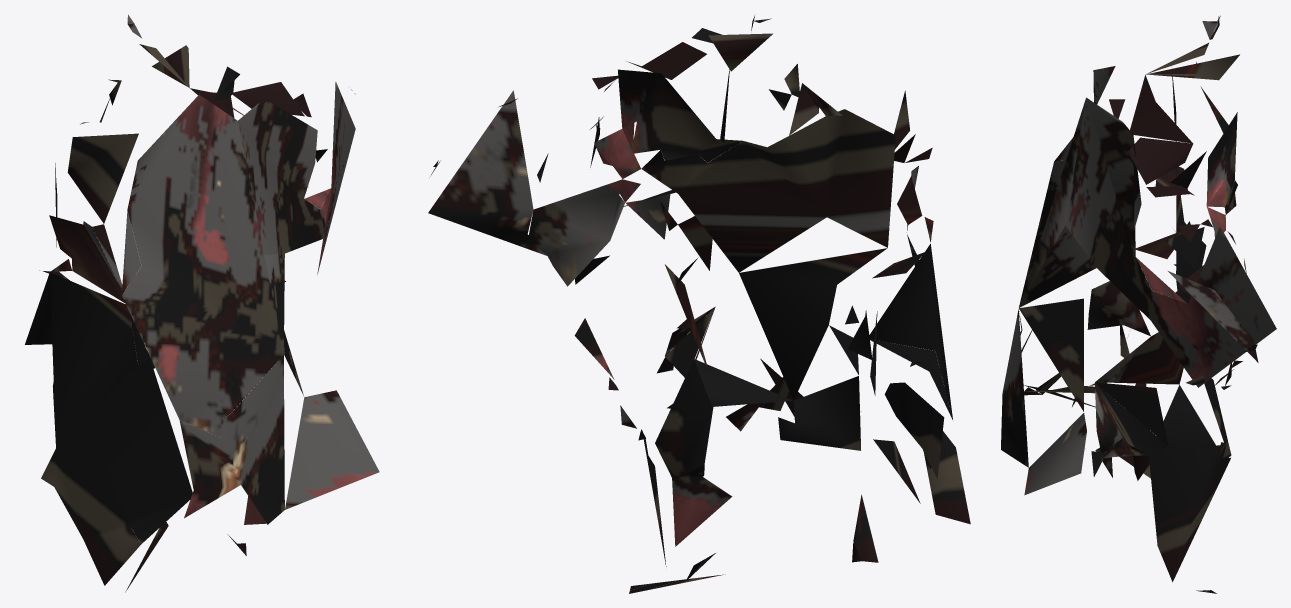
3 views of the same model, side by side, from view 1: azimuth 30°, elevation 25°; view 2: azimuth 150°, elevation 25°; view 3: azimuth 270°, elevation 25° (orthographic). The views are drawn at different scales.
Visible parts, largest first — view 1: body.002; view 2: body.002; view 3: body.002.
Boxes of the visible parts, bbox=[...] form: body.002: bbox=[25, 14, 379, 592]; body.002: bbox=[428, 15, 970, 593]; body.002: bbox=[1001, 15, 1276, 593].
Size of the model in its own units: 1.57 by 2 by 0.9518.
Materials: 1 (1 with a texture image).
